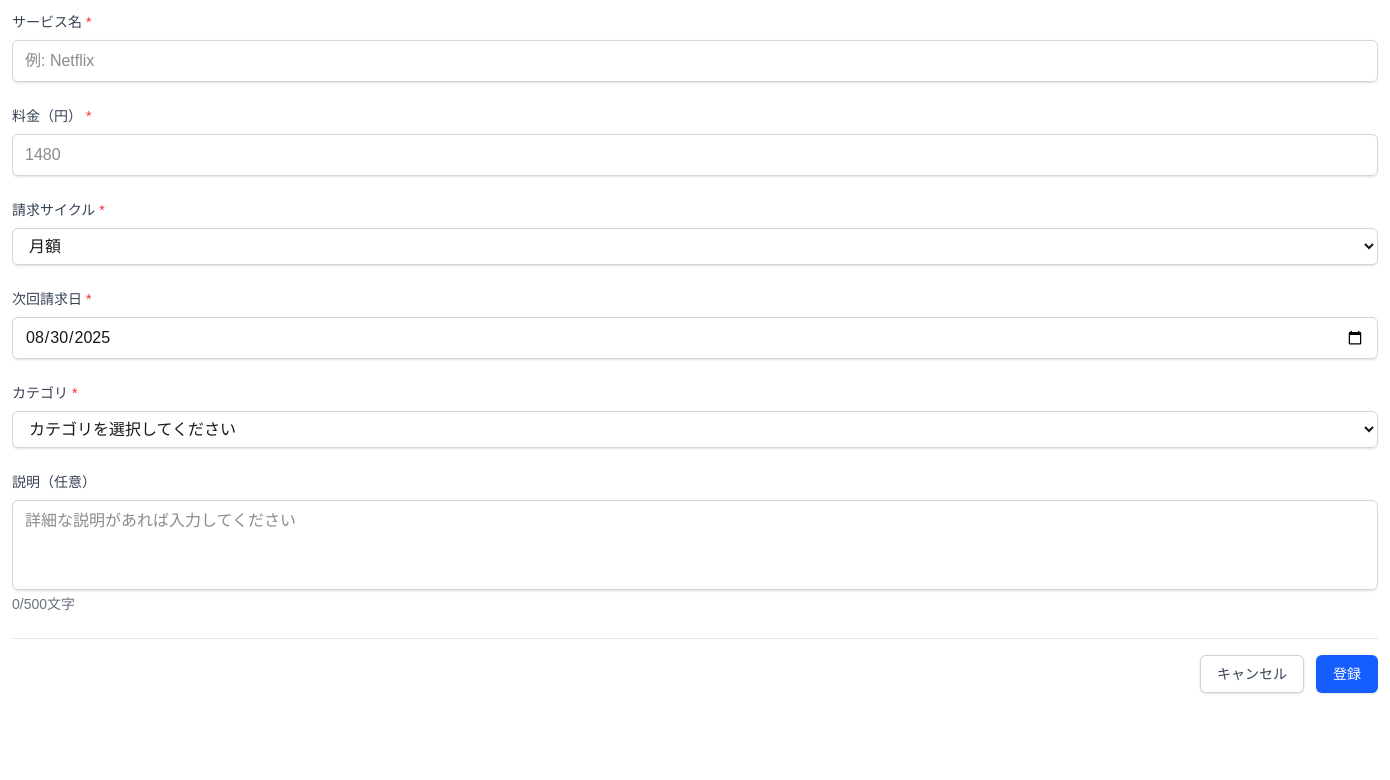
SubscriptionForm › 送信処理 › 無効なデータで送信が阻止されること
// 無効なデータ（空のサービス名）で送信
Click the button "登録": [1347, 674] box [1316,655,1378,693]
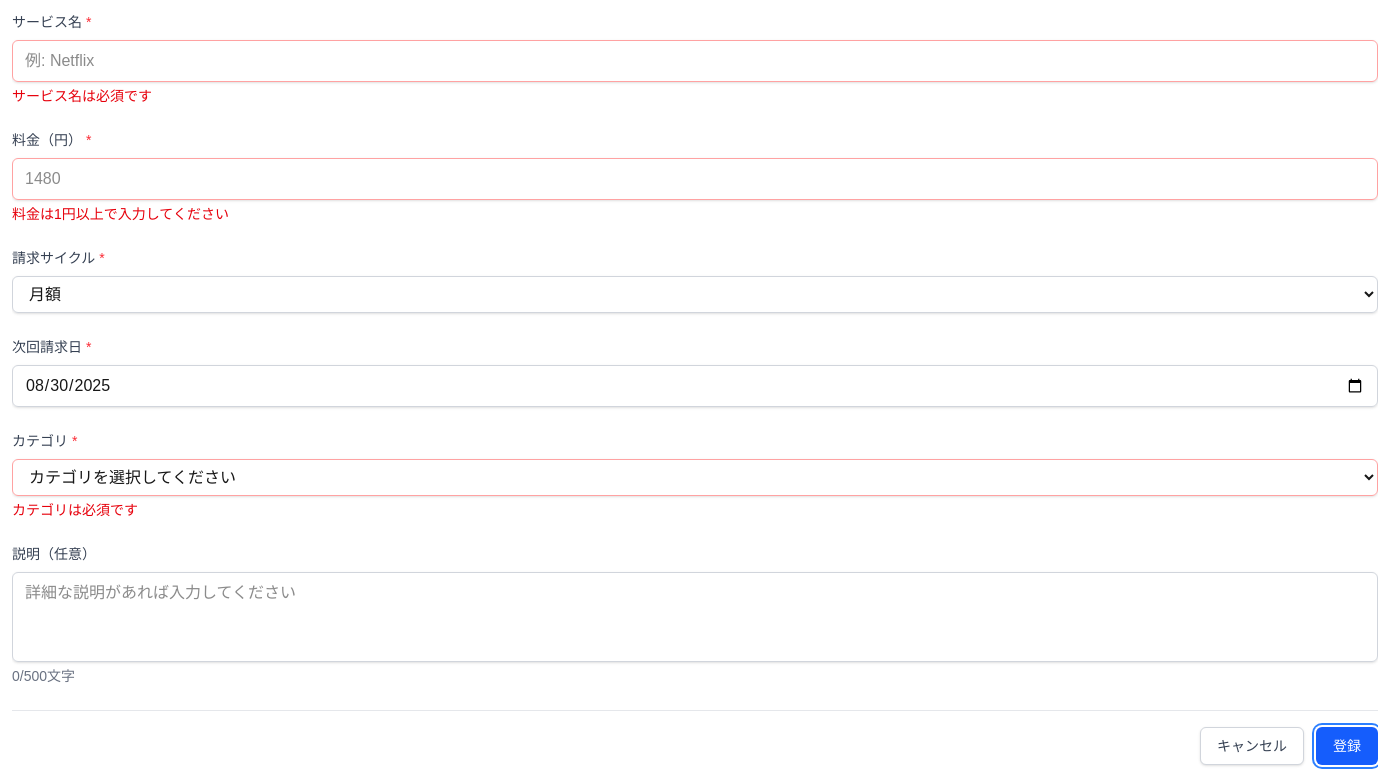
Result: the text "サービス名は必須です" is shown at [12,88,152,104]
